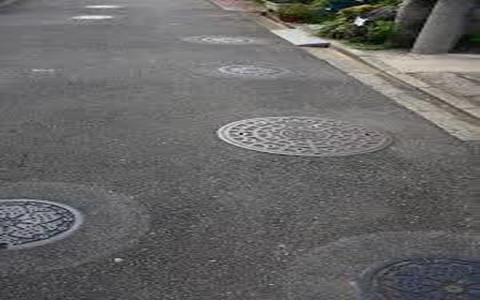proper manhole: (187, 94, 402, 173)
